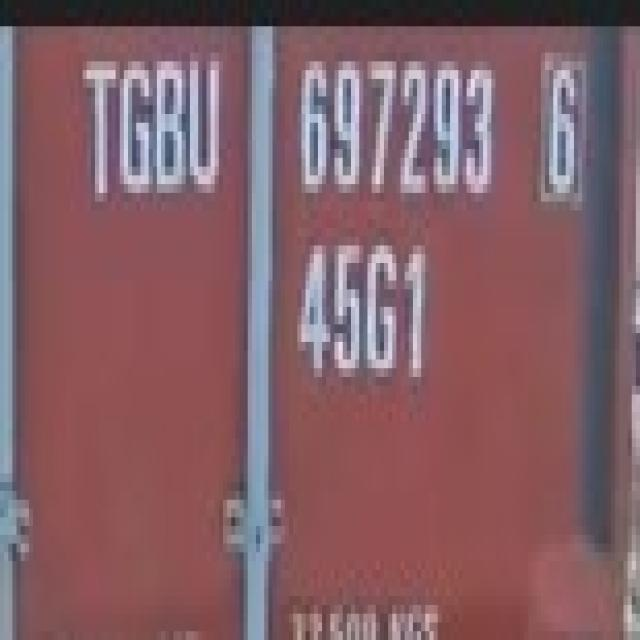dv: (531, 56, 589, 207)
owner: (74, 48, 224, 206)
serial: (288, 44, 498, 209)
size: (290, 234, 433, 394)
